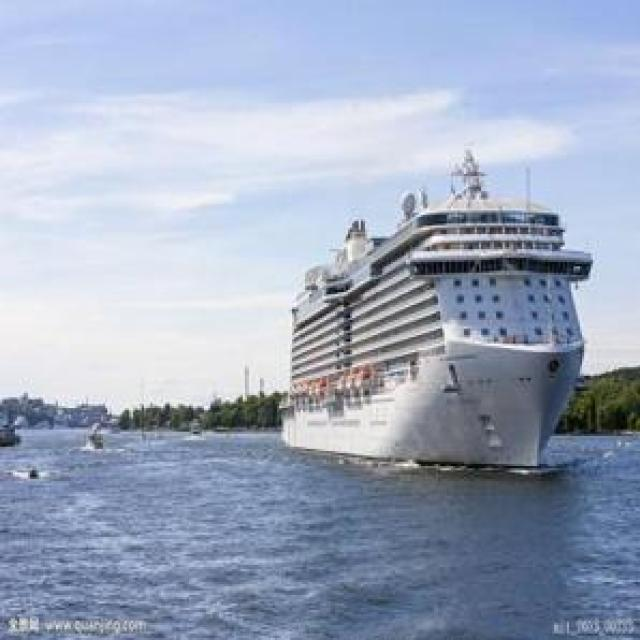passenger ship: (278, 160, 596, 469)
